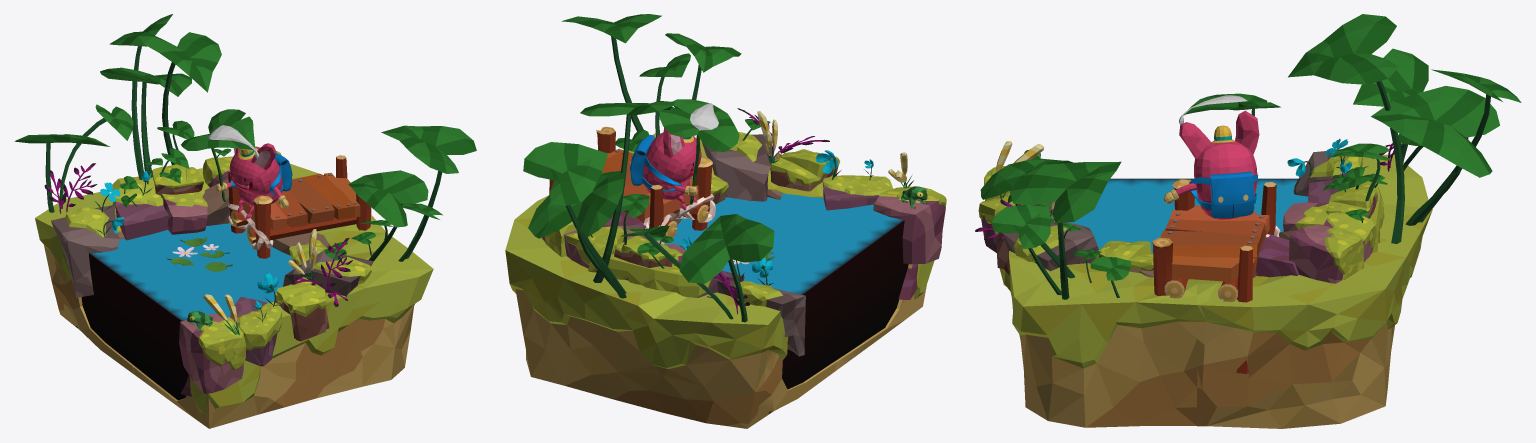
File: 0021_rainyGarden.fbx
3 renders of one model, left to right at view 1: azimuth 30°, elevation 25°; view 2: azimuth 150°, elevation 25°; view 3: azimuth 270°, elevation 25°, orthographic. The views are drawn at different scales.
Parts seen in each view (by area): view 1: Plate02, [water], PlantA02 (×3), MossRock_C (×3), MossRock_A (×2), PlantA03 (×3), MossRock_B (×2), Plate01, WoodPlanks, MossRock_D (×2), PlantA04 (×2), PlantA01 (×2) (+7 smaller); view 2: Plate01, [water], PlantA02 (×3), MossRock_A (×2), PlantA03 (×3), PlantA01 (×2), MossRock_C (×3), MossRock_B (×2), PlantA04 (×2), MossRock_D (×2), Plate02, Character_Head (+8 smaller); view 3: Plate01, Plate02, PlantA02 (×3), PlantA03 (×3), [water], MossRock_C (×3), WoodPlanks, PlantA01 (×3), MossRock_A (×2), Character_Head, MossRock_D (×2), Dock_Post02 (×2) (+6 smaller).
Boxes of the visible parts, x1,y1,x2,y2 form: Plate02: (133,214,433,428); [water]: (76,223,293,400); PlantA02 (×3): (14,32,476,259); MossRock_C (×3): (161,156,245,393); MossRock_A (×2): (51,205,373,297); PlantA03 (×3): (100,67,428,261); MossRock_B (×2): (112,168,281,366); Plate01: (35,163,323,374); WoodPlanks: (240,172,360,230); MossRock_D (×2): (151,164,329,341); PlantA04 (×2): (59,104,255,208); PlantA01 (×2): (109,14,442,261); Plate01: (505,195,837,428); [water]: (665,193,908,413); PlantA02 (×3): (561,14,774,322); MossRock_A (×2): (702,132,805,356); PlantA03 (×3): (528,33,741,293); PlantA01 (×2): (523,53,690,298); MossRock_C (×3): (542,186,946,268); MossRock_B (×2): (588,175,893,297); PlantA04 (×2): (620,99,739,319); MossRock_D (×2): (614,149,840,267); Plate02: (628,133,934,369); Character_Head: (647,127,701,182); Plate01: (1197,154,1432,428); Plate02: (999,193,1197,427); PlantA02 (×3): (1009,14,1428,299); PlantA03 (×3): (980,86,1499,278); [water]: (1067,178,1308,253); MossRock_C (×3): (1283,202,1376,283); WoodPlanks: (1160,205,1269,281); PlantA01 (×3): (991,69,1521,297); MossRock_A (×2): (1002,149,1362,271); Character_Head: (1179,110,1259,185); MossRock_D (×2): (1095,186,1377,272); Dock_Post02 (×2): (1152,237,1252,373).
Size of the model in its own units: 13.35 by 10.56 by 15.92.
